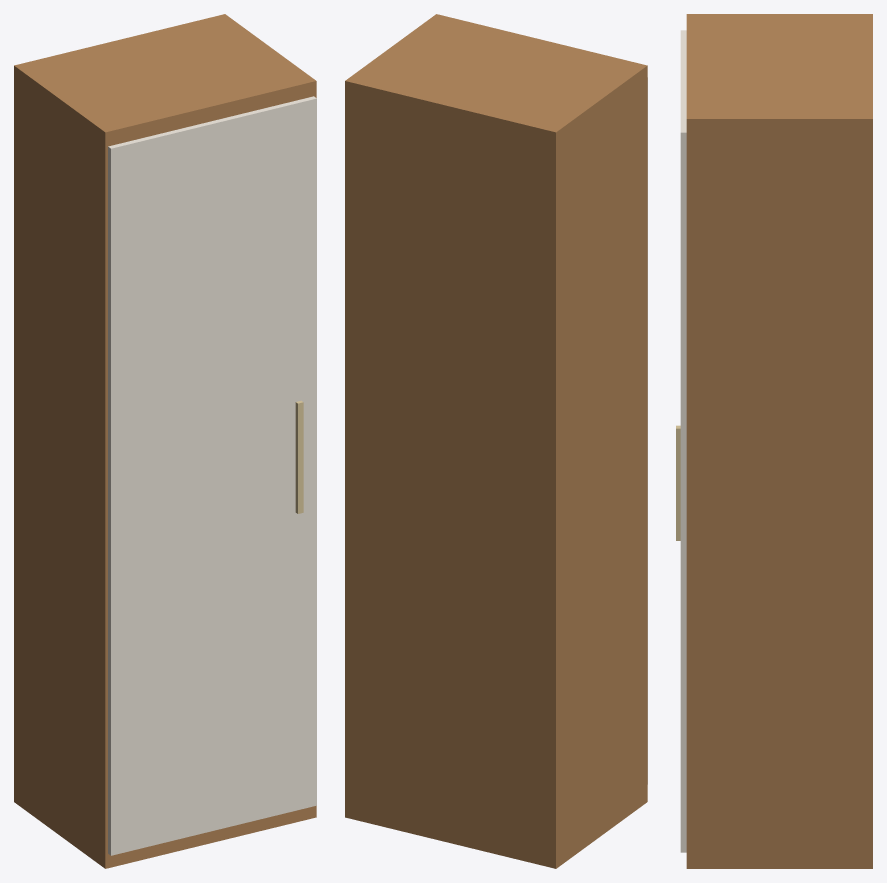
The model's file is armario_alto_60.obj.
3 renders of one model, left to right at view 1: azimuth 30°, elevation 25°; view 2: azimuth 150°, elevation 25°; view 3: azimuth 270°, elevation 25°, orthographic.
Visible parts, largest first — view 1: armario_alto_60; view 2: armario_alto_60; view 3: armario_alto_60.
Boxes of the visible parts, bbox=[...] form: armario_alto_60: bbox=[14, 14, 316, 868]; armario_alto_60: bbox=[345, 14, 647, 868]; armario_alto_60: bbox=[676, 14, 872, 868].
Size of the model in its own units: 0.6 by 2 by 0.476.
